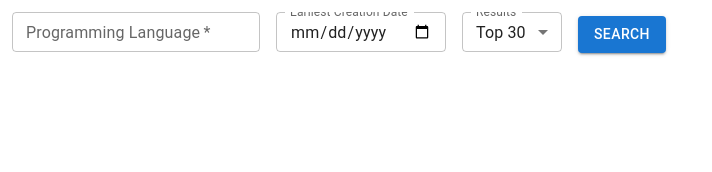
Test: SearchForm › shows validation message when a future date is entered
Type "typescript" into the field labelled "Programming Language *" at [136, 32], box top-left (12, 12), bottom-right (260, 52)
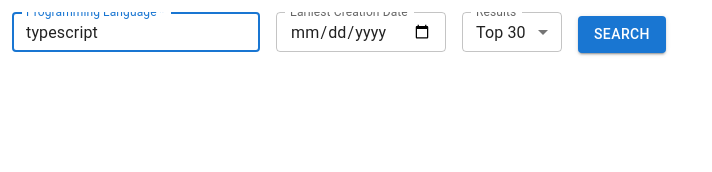
Note: Set a future date via fireEvent since userEvent.type on date inputs is unreliable
Type "2099-12-31" into the date field labelled "Earliest Creation Date" at [361, 32], box top-left (276, 12), bottom-right (446, 52)
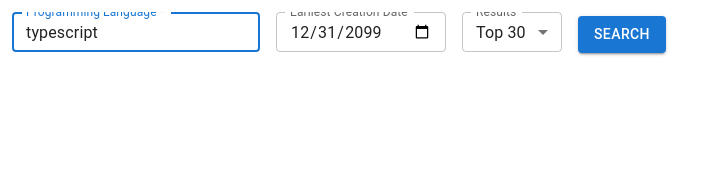
Submit the form from the button "Search", box top-left (578, 16), bottom-right (666, 52)
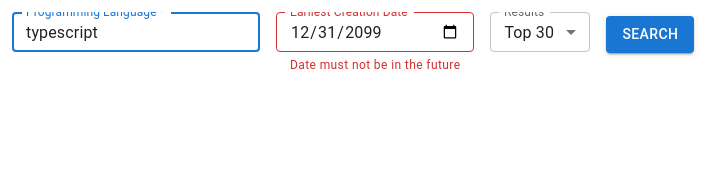
Now the text "Date must not be in the future" is shown, box top-left (290, 56), bottom-right (460, 76)
